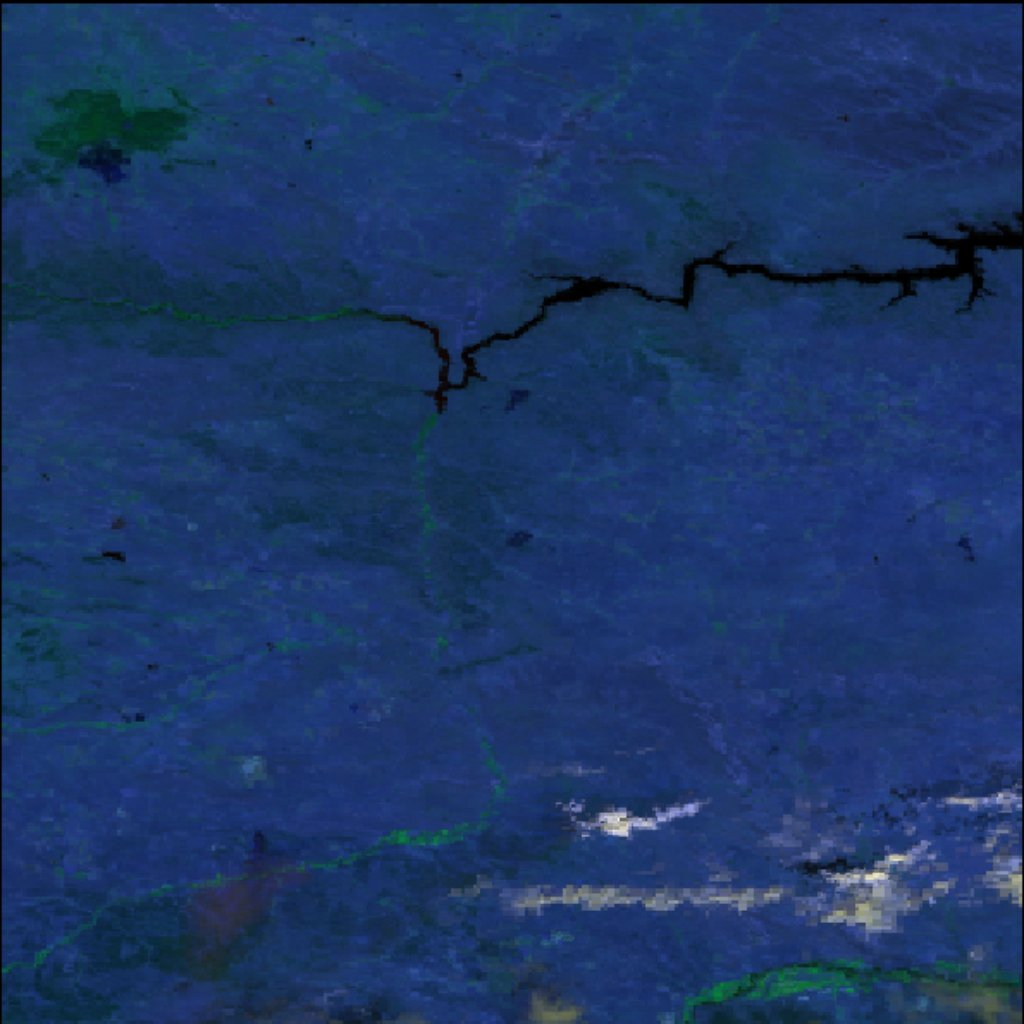fire: (2, 4, 1023, 1024)
